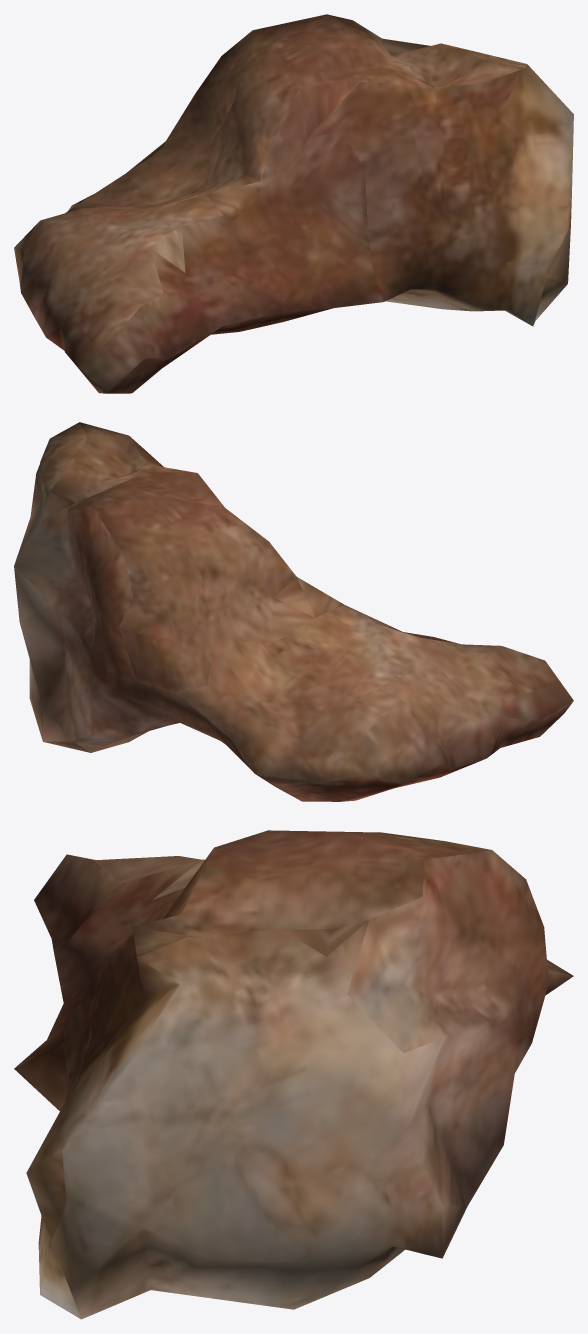
File: rock_pebble_01.glb
3 views of the same model, one above another, from view 1: azimuth 30°, elevation 25°; view 2: azimuth 150°, elevation 25°; view 3: azimuth 270°, elevation 25° (orthographic). The views are drawn at different scales.
Parts seen in each view (by area): view 1: rock_pebble_01; view 2: rock_pebble_01; view 3: rock_pebble_01.
Boxes of the visible parts, x1=… form: rock_pebble_01: x1=14, y1=14, x2=573, y2=393; rock_pebble_01: x1=14, y1=422, x2=573, y2=801; rock_pebble_01: x1=14, y1=830, x2=573, y2=1319.
Size of the model in its own units: 0.1442 by 0.0714 by 0.0889.
Materials: 1 (1 with a texture image).
